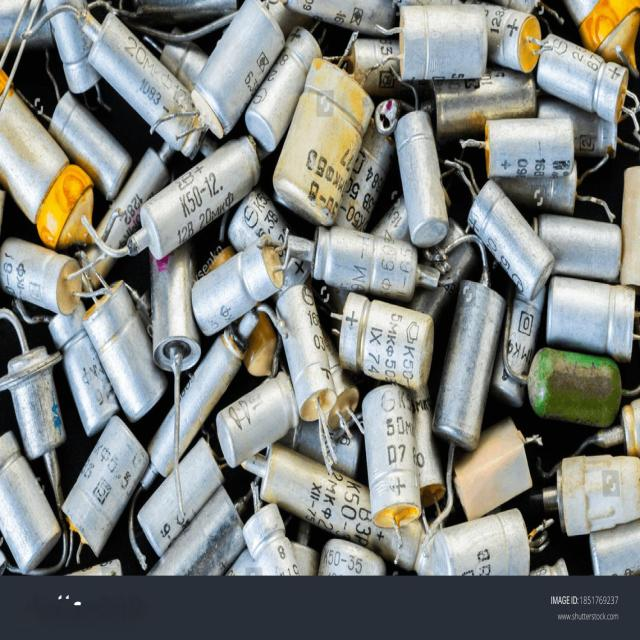Capacitors: (272, 58, 374, 225), (128, 136, 260, 258), (432, 281, 505, 451), (82, 281, 168, 422), (469, 181, 554, 302), (362, 385, 421, 528), (276, 285, 336, 421), (400, 6, 488, 81), (0, 189, 5, 231)
